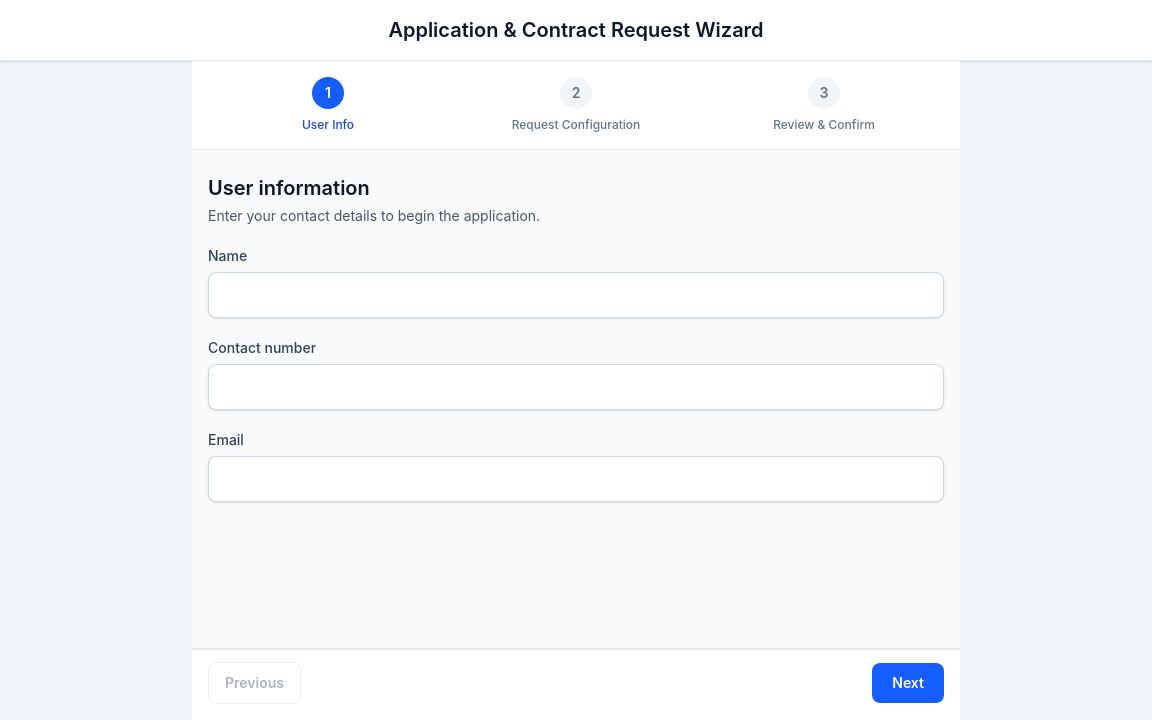
Test: ApplicationWizard › rejects invalid email and phone formats with RegEx messages
This screenshot has width=1152, height=720.
Type "Jane Doe" into the field labelled "Name".
click(576, 295); type("Jane Doe")  # box [208, 272, 944, 318]
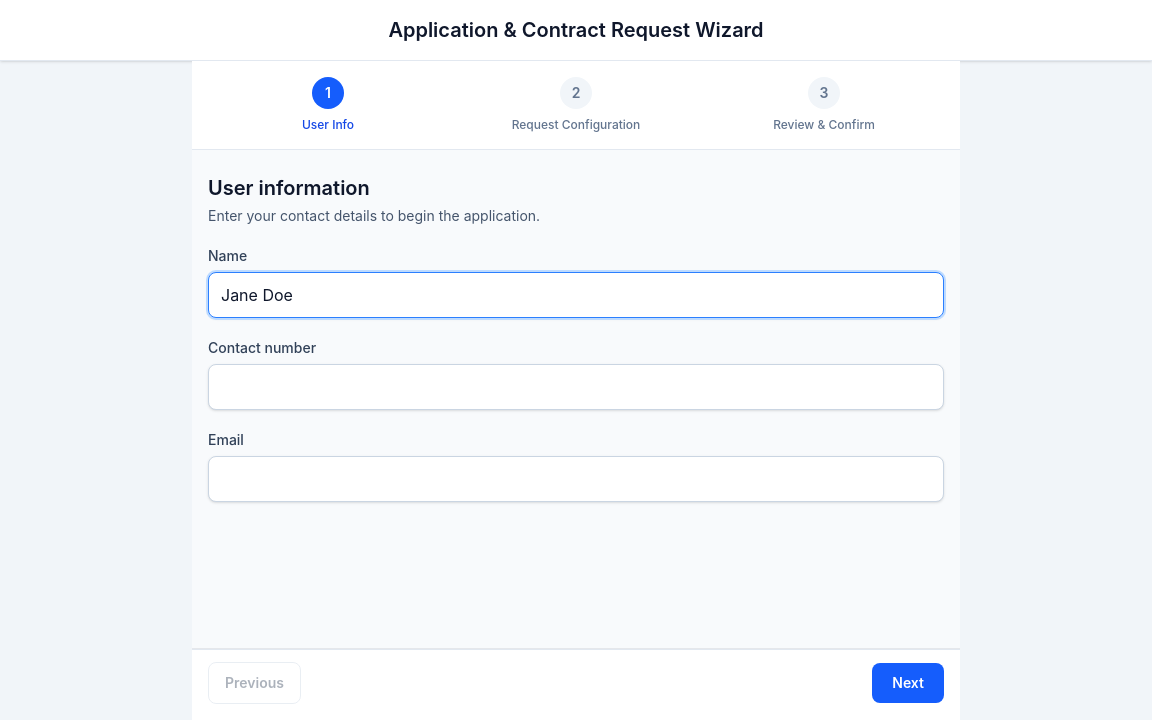
Type "abc" into the field labelled "Contact number".
click(576, 387); type("abc")  # box [208, 364, 944, 410]
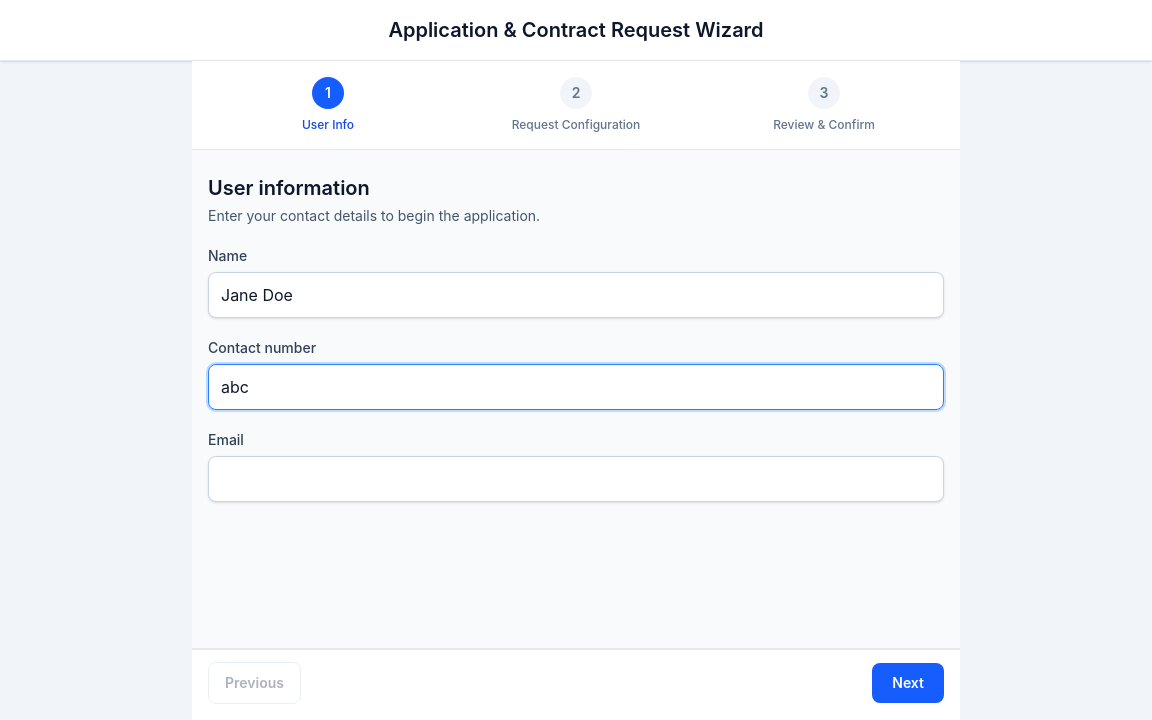
Type "not-an-email" into the field labelled "Email".
click(576, 479); type("not-an-email")  # box [208, 456, 944, 502]
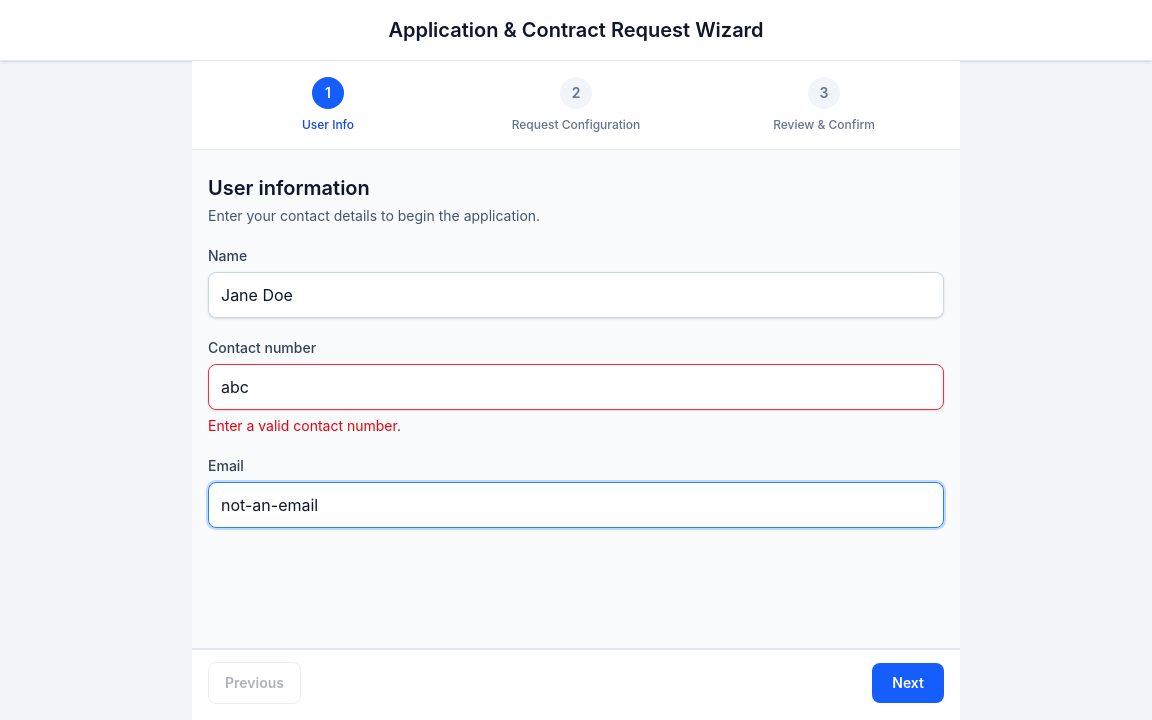
Click the button "Next".
click(908, 683)  # box [872, 663, 944, 703]
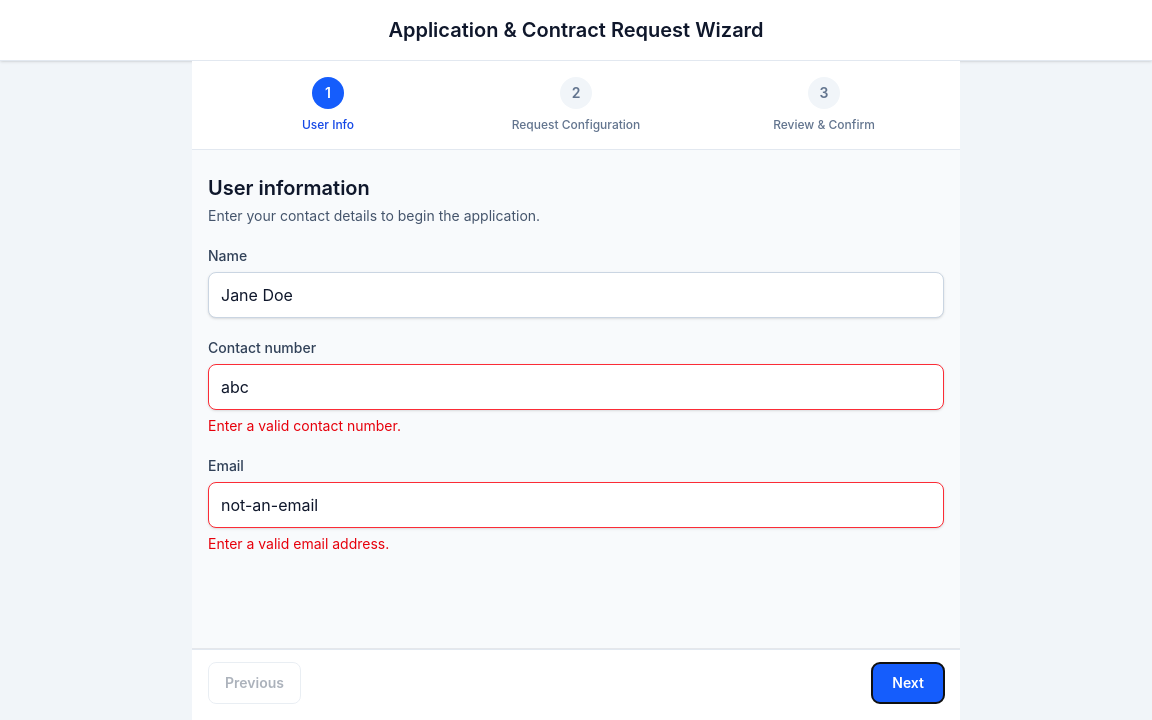
Expected: the heading "User information" is shown, [208, 176, 370, 200]
Now the text "Enter a valid contact number." is shown, box [208, 417, 401, 434]
Now the text "Enter a valid email address." is shown, box [208, 535, 389, 552]
